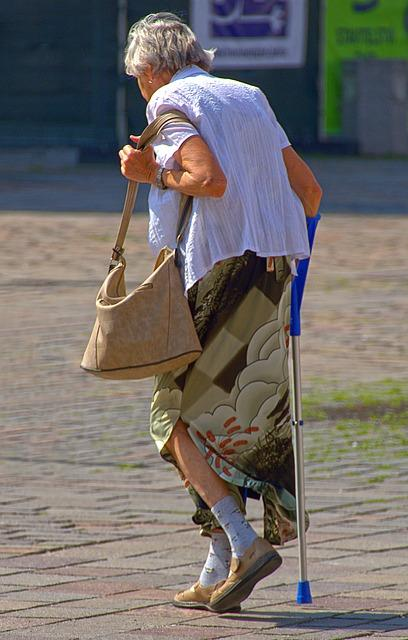crutches: (80, 12, 325, 614)
